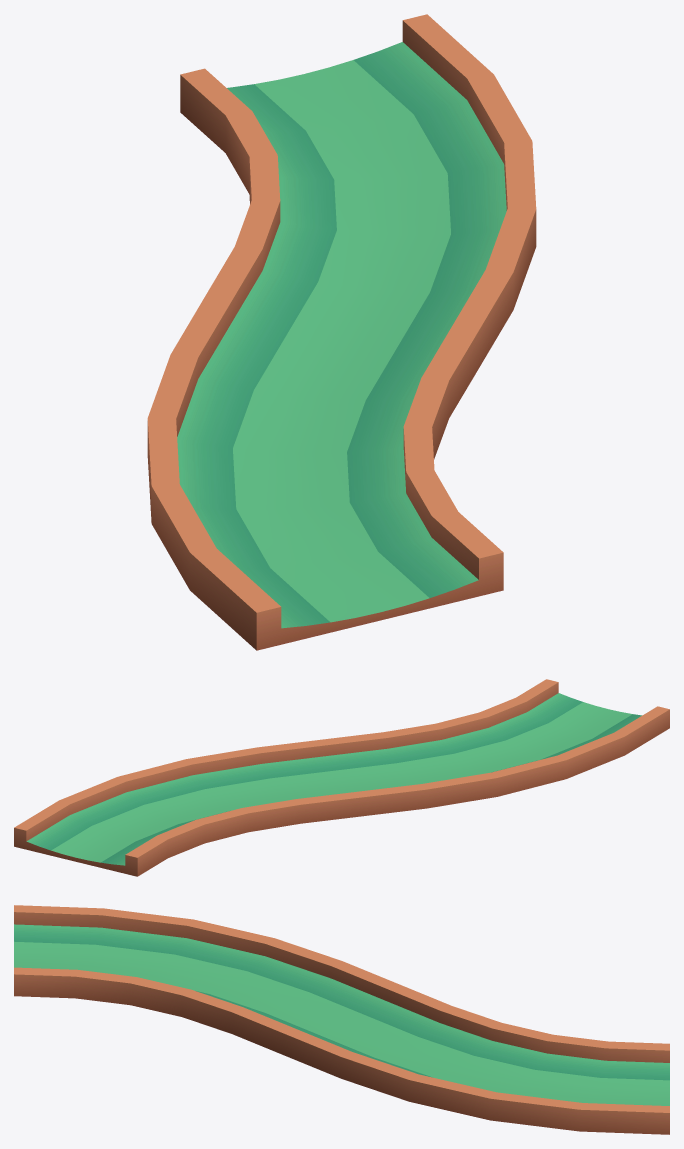
File: spline-concave-curve.glb
The picture shows the model from 3 angles, top to bottom: view 1: azimuth 30°, elevation 25°; view 2: azimuth 150°, elevation 25°; view 3: azimuth 270°, elevation 25°; orthographic projection. The views are drawn at different scales.
Parts seen in each view (by area): view 1: spline-concave-curve; view 2: spline-concave-curve; view 3: spline-concave-curve.
Part boxes in pixels (bbox=[...]): spline-concave-curve: bbox=[147, 14, 536, 650]; spline-concave-curve: bbox=[14, 679, 669, 876]; spline-concave-curve: bbox=[14, 905, 669, 1134].
Bounding box in the file's own units: 3 × 0.1465 × 4.
1 material, 1 textured.
